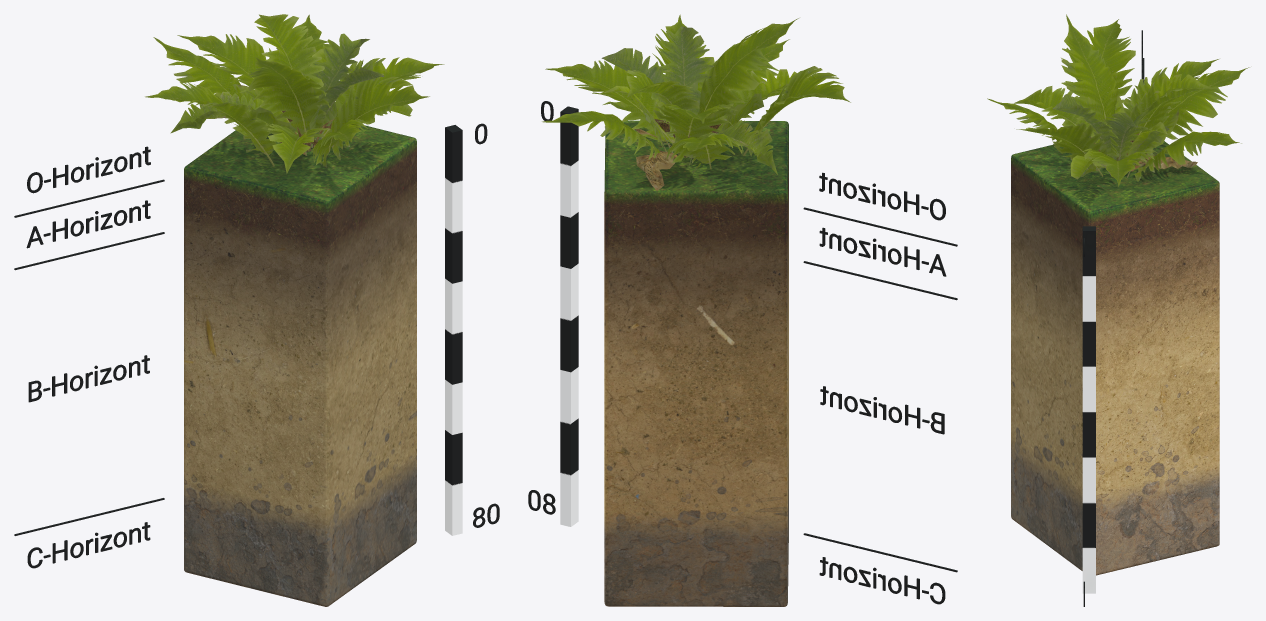
Rendered from geco_ground_profile.glb.
3 views of the same model, side by side, from view 1: azimuth 30°, elevation 25°; view 2: azimuth 150°, elevation 25°; view 3: azimuth 270°, elevation 25° (orthographic). The views are drawn at different scales.
Visible parts, largest first — view 1: geco_groundprofile, geco_groundprofile_text_R, geco_groundprofile_text_L; view 2: geco_groundprofile, geco_groundprofile_text_R, geco_groundprofile_text_L; view 3: geco_groundprofile, geco_groundprofile_text_R.
Boxes of the visible parts, box(x1,y1,x2,y2) form: geco_groundprofile: box(145, 14, 444, 606); geco_groundprofile_text_R: box(445, 123, 499, 535); geco_groundprofile_text_L: box(14, 146, 164, 568); geco_groundprofile: box(542, 14, 850, 606); geco_groundprofile_text_R: box(528, 101, 578, 526); geco_groundprofile_text_L: box(803, 172, 957, 604); geco_groundprofile: box(987, 14, 1249, 575); geco_groundprofile_text_R: box(1082, 226, 1095, 606).
Bounding box in the file's own units: 1.4 × 1.6 × 0.79.
3 materials, 3 textured.
